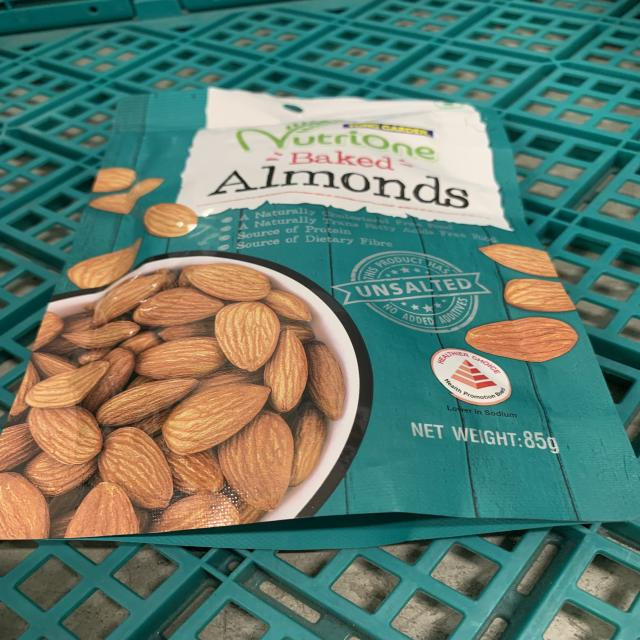object_name: (0, 99, 640, 547)
